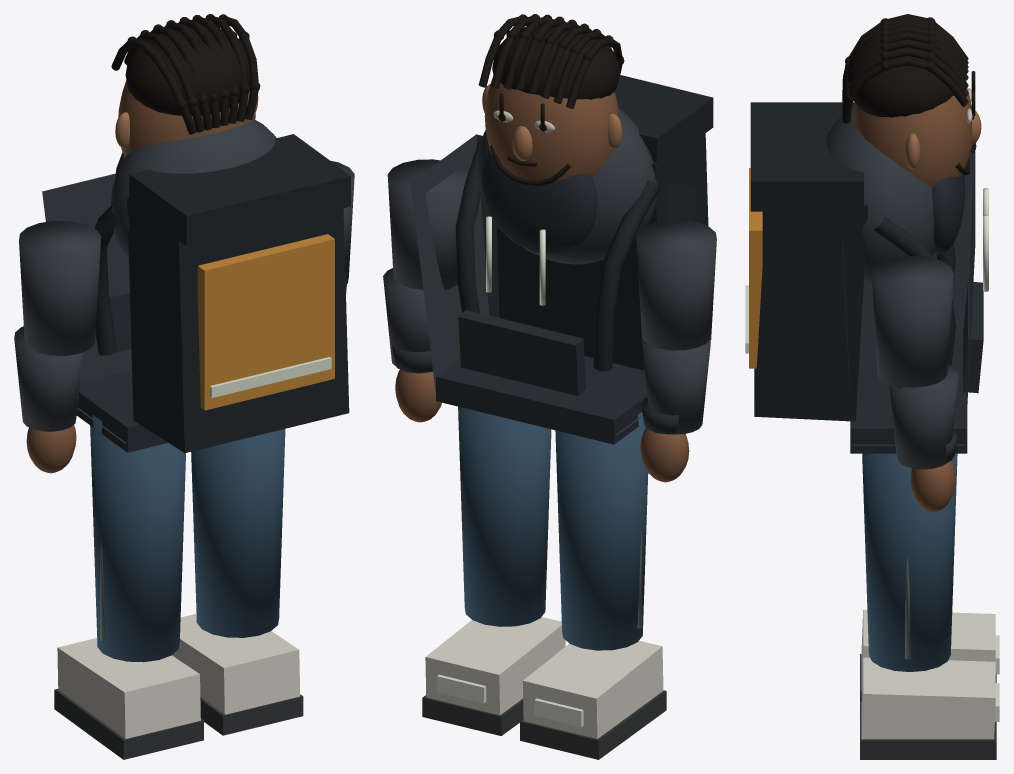
The model's file is player-character.glb.
3 renders of one model, left to right at view 1: azimuth 30°, elevation 25°; view 2: azimuth 150°, elevation 25°; view 3: azimuth 270°, elevation 25°, orthographic.
Parts seen in each view (by area): view 1: player-courier-bag, player-left-jean-leg, player-courier-bag-front-panel, player-right-jean-leg, player-courier-bag-lid, player-left-hoodie-upper-sleeve, player-left-trainer, player-right-trainer, player-hood, player-hair-cap, player-hoodie-body, player-left-hoodie-forearm (+16 smaller); view 2: player-left-jean-leg, player-right-jean-leg, player-courier-bag, player-hoodie-hem, player-left-hoodie-upper-sleeve, player-left-trainer, player-hoodie-body, player-head, player-right-trainer, player-hoodie-pocket, player-hood-opening, player-right-hoodie-upper-sleeve (+25 smaller); view 3: player-courier-bag, player-right-jean-leg, player-courier-bag-lid, player-right-trainer, player-right-hoodie-upper-sleeve, player-hood, player-head, player-right-hoodie-forearm, player-hoodie-hem, player-hair-cap, player-hoodie-body, player-right-trainer-sole (+16 smaller).
Boxes of the visible parts, x1,y1,x2,y2 form: player-courier-bag: [127, 197, 349, 452]; player-left-jean-leg: [90, 415, 185, 662]; player-courier-bag-front-panel: [197, 234, 334, 410]; player-right-jean-leg: [191, 429, 285, 637]; player-courier-bag-lid: [129, 134, 350, 246]; player-left-hoodie-upper-sleeve: [19, 221, 101, 355]; player-left-trainer: [57, 638, 200, 738]; player-right-trainer: [172, 613, 300, 714]; player-hood: [110, 120, 276, 259]; player-hair-cap: [125, 26, 250, 115]; player-hoodie-body: [42, 173, 131, 443]; player-left-hoodie-forearm: [14, 326, 82, 431]; player-left-jean-leg: [555, 412, 648, 650]; player-right-jean-leg: [458, 406, 551, 626]; player-courier-bag: [496, 123, 708, 370]; player-hoodie-hem: [436, 357, 647, 444]; player-left-hoodie-upper-sleeve: [636, 220, 716, 350]; player-left-trainer: [522, 640, 663, 738]; player-hoodie-body: [410, 134, 697, 435]; player-head: [484, 76, 619, 183]; player-right-trainer: [425, 617, 565, 715]; player-hoodie-pocket: [458, 310, 585, 395]; player-hood-opening: [481, 151, 597, 254]; player-right-hoodie-upper-sleeve: [387, 159, 467, 289]; player-courier-bag: [754, 201, 868, 421]; player-right-jean-leg: [862, 453, 957, 671]; player-courier-bag-lid: [750, 102, 863, 211]; player-right-trainer: [861, 657, 995, 739]; player-right-hoodie-upper-sleeve: [872, 256, 953, 388]; player-hood: [826, 107, 934, 283]; player-head: [852, 88, 972, 187]; player-right-hoodie-forearm: [889, 365, 958, 469]; player-hoodie-hem: [850, 341, 967, 453]; player-hair-cap: [846, 36, 961, 117]; player-hoodie-body: [842, 145, 975, 445]; player-right-trainer-sole: [860, 701, 996, 759].
Bounding box in the file's own units: 0.95 × 1.94 × 0.6515.
